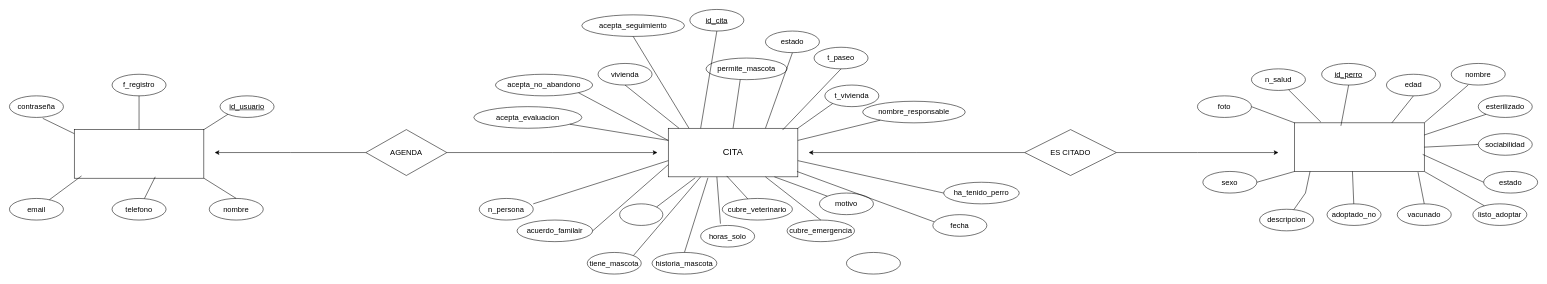
Image size: 1547x284. Some labels were removed from this diagram. The shapes that lost their labels are listed below. From the top down, each one's box as (x1, y1, x2, y2) in pixels, then its label:
(74, 129, 204, 178): USUARIO
(1294, 122, 1424, 171): PERRO
(619, 203, 663, 225): hora
(846, 252, 900, 274): tipo_perro
